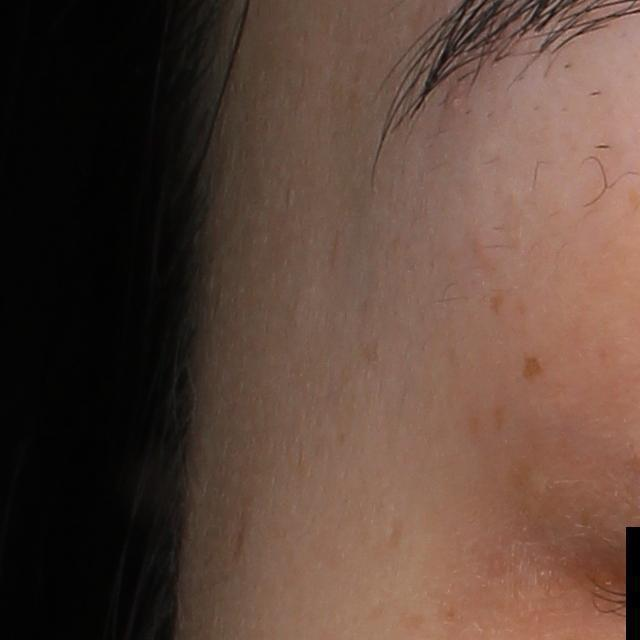melasma: (516, 352, 546, 385), (386, 519, 407, 552), (491, 402, 509, 433), (488, 290, 506, 316)
